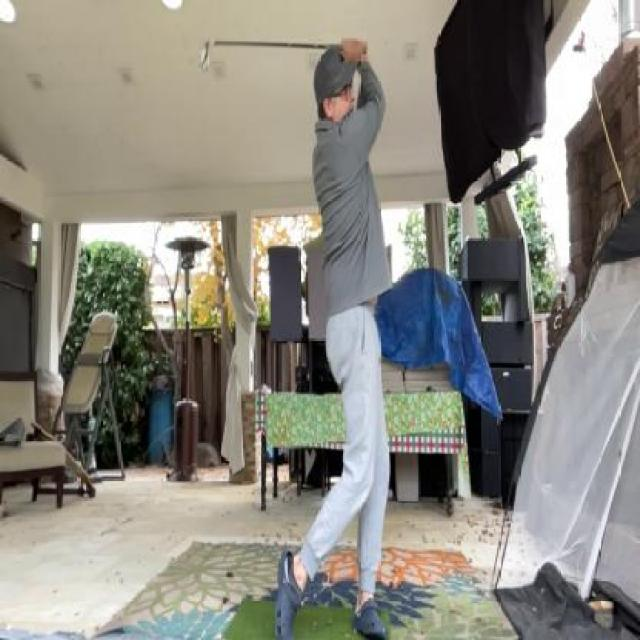club head: (196, 30, 219, 75)
